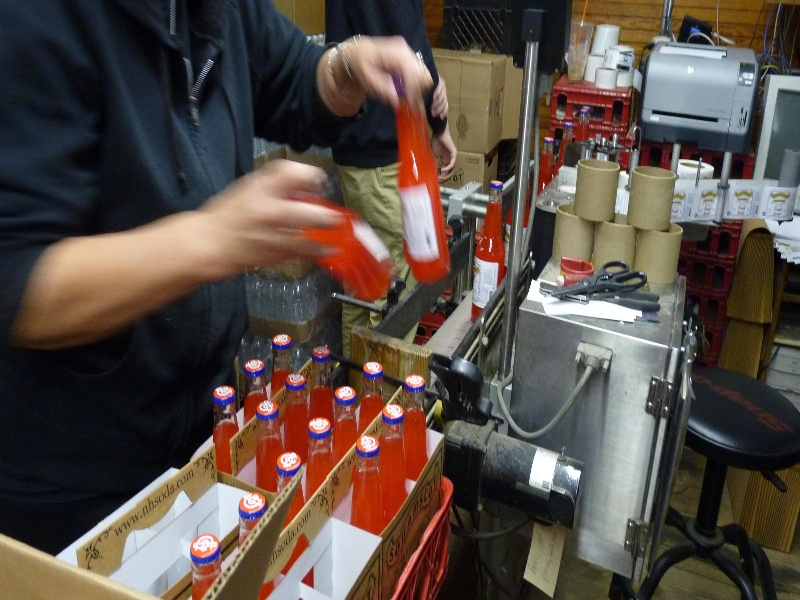Glass bottle: (369, 87, 463, 301), (279, 160, 398, 314), (459, 157, 521, 346), (365, 378, 423, 501), (231, 376, 296, 483), (337, 421, 389, 533), (400, 372, 448, 473), (268, 365, 325, 450), (293, 346, 343, 410)
